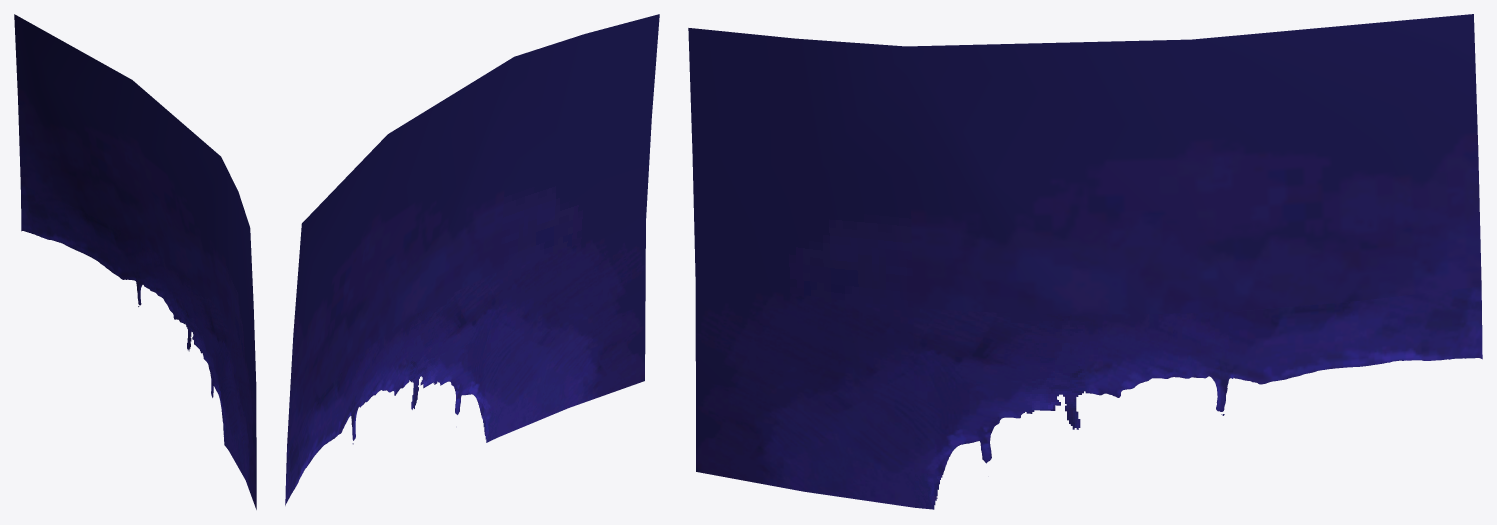
The model's file is SWORDLIGHT20_PS-AREA05-RANGE03_02.fbx.
The picture shows the model from 3 angles, left to right: view 1: azimuth 30°, elevation 25°; view 2: azimuth 150°, elevation 25°; view 3: azimuth 270°, elevation 25°; orthographic projection. The views are drawn at different scales.
Parts seen in each view (by area): view 1: SWORDLIGHT20_PS-AREA05-RANGE03_02; view 2: SWORDLIGHT20_PS-AREA05-RANGE03_02; view 3: SWORDLIGHT20_PS-AREA05-RANGE03_02.
Boxes of the visible parts, left/top/right/bottom form: SWORDLIGHT20_PS-AREA05-RANGE03_02: left=14, top=14, right=256, bottom=509; SWORDLIGHT20_PS-AREA05-RANGE03_02: left=285, top=14, right=659, bottom=505; SWORDLIGHT20_PS-AREA05-RANGE03_02: left=688, top=14, right=1482, bottom=509.
Bounding box in the file's own units: 67843 × 305027 × 465960.
8 materials, 8 textured.
